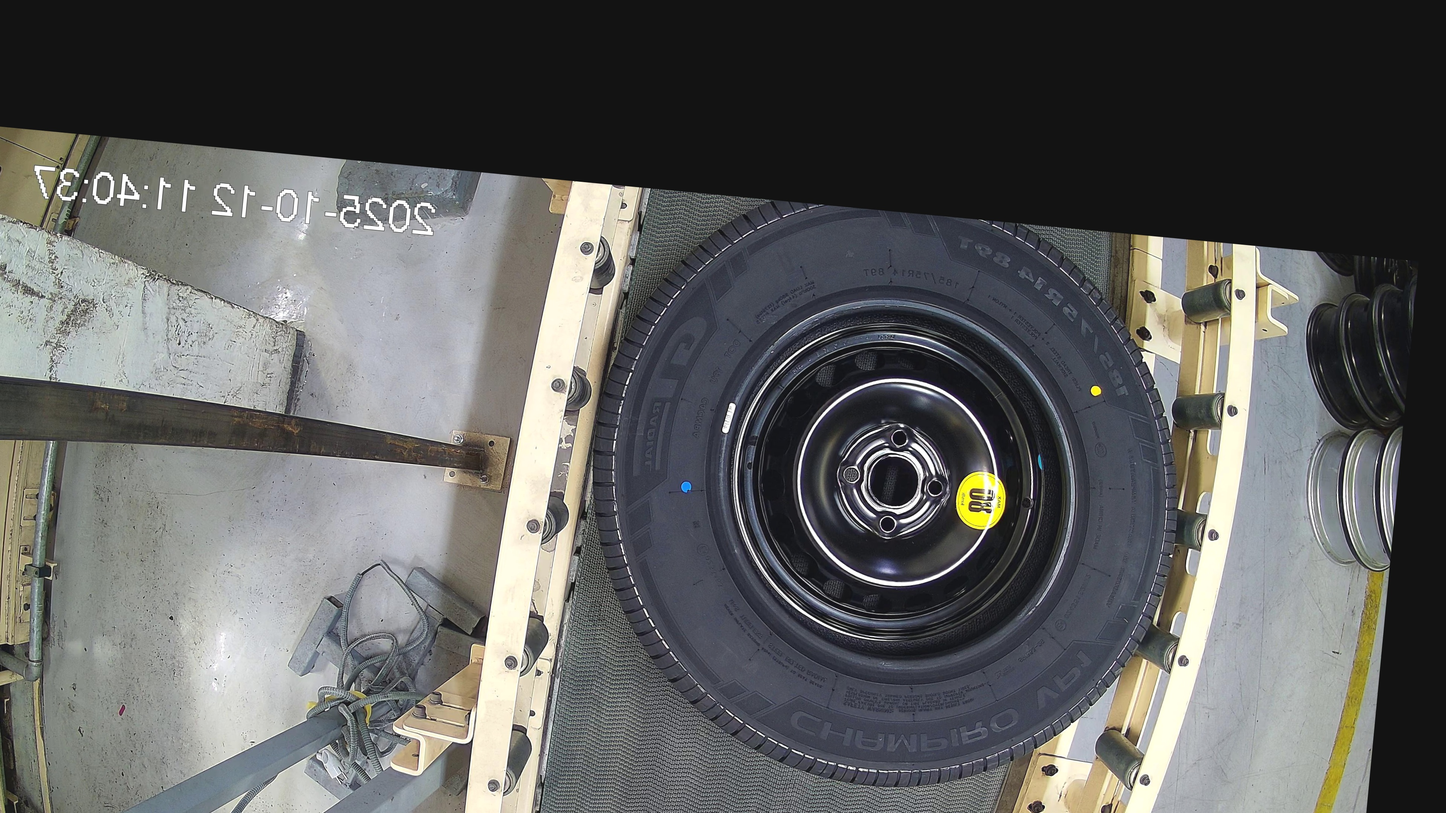80_label: (946, 464, 1017, 533)
simple_wheel: (705, 301, 1059, 663)
